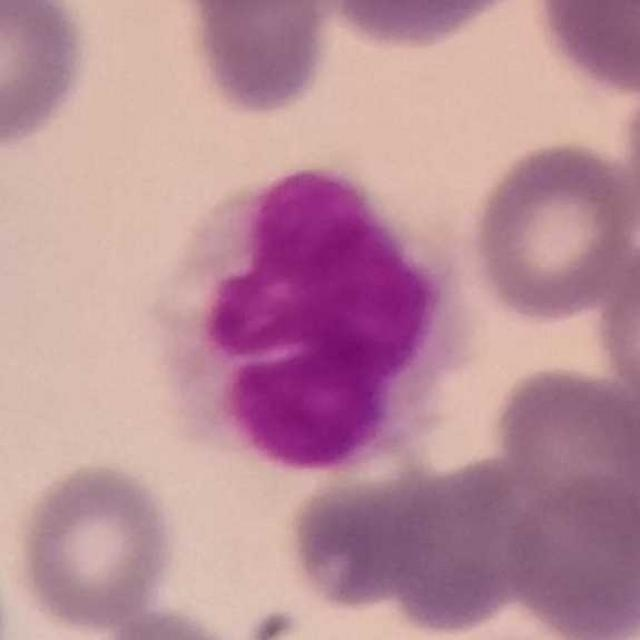Monocyte: (154, 162, 479, 478)
Platelets: (240, 604, 303, 640)
RBC: (465, 135, 639, 325), (9, 456, 181, 634), (371, 460, 544, 636), (487, 359, 640, 529), (500, 468, 640, 640), (281, 463, 438, 614), (173, 0, 345, 121), (0, 0, 97, 157), (373, 589, 619, 640), (312, 0, 538, 52), (528, 0, 640, 99), (592, 234, 640, 426), (98, 605, 220, 640), (620, 64, 640, 240)
